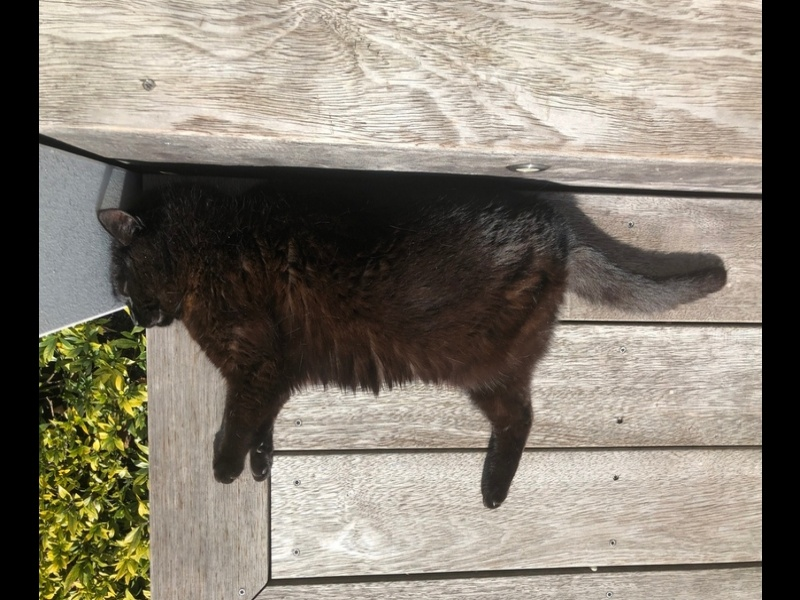cat: (96, 176, 736, 508)
